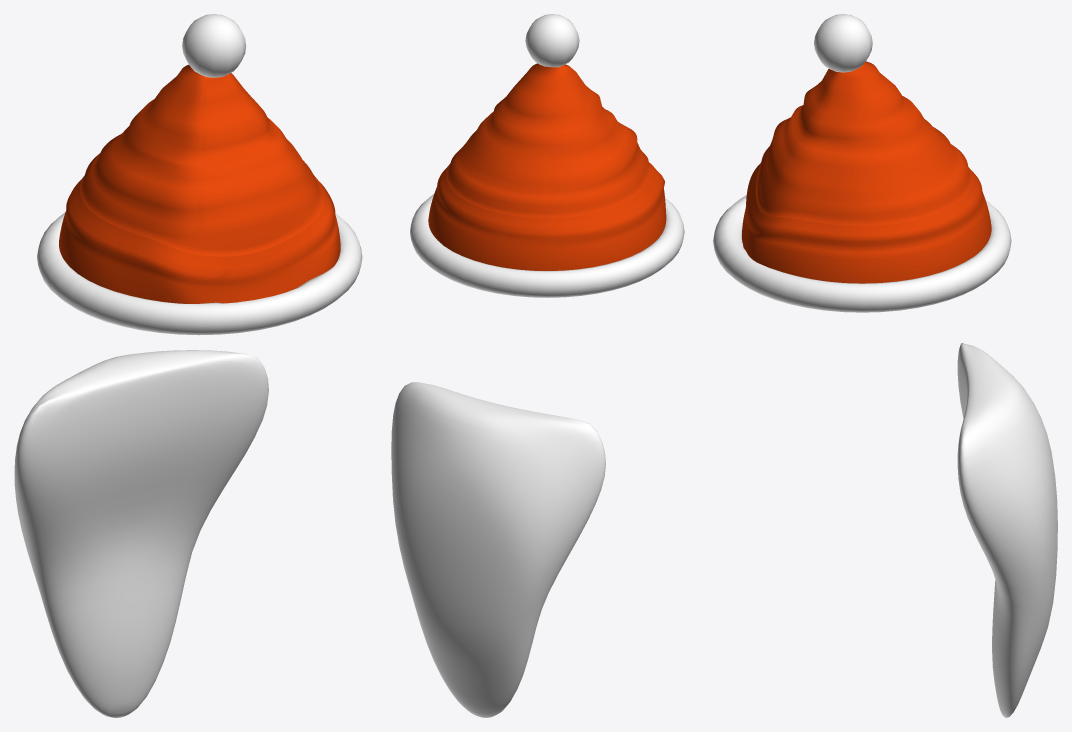
File: boroda_new.fbx
The picture shows the model from 3 angles, left to right: view 1: azimuth 30°, elevation 25°; view 2: azimuth 150°, elevation 25°; view 3: azimuth 270°, elevation 25°; orthographic projection. The views are drawn at different scales.
Parts seen in each view (by area): view 1: Shapka_Deda, boroda_Deda; view 2: boroda_Deda, Shapka_Deda; view 3: Shapka_Deda, boroda_Deda.
Part boxes in pixels (x1,y1,x2,y2): Shapka_Deda: (37, 14, 362, 335); boroda_Deda: (14, 350, 268, 717); boroda_Deda: (391, 382, 605, 717); Shapka_Deda: (410, 14, 684, 297); Shapka_Deda: (713, 14, 1011, 312); boroda_Deda: (957, 343, 1057, 717).
Bounding box in the file's own units: 230 × 595 × 265.
